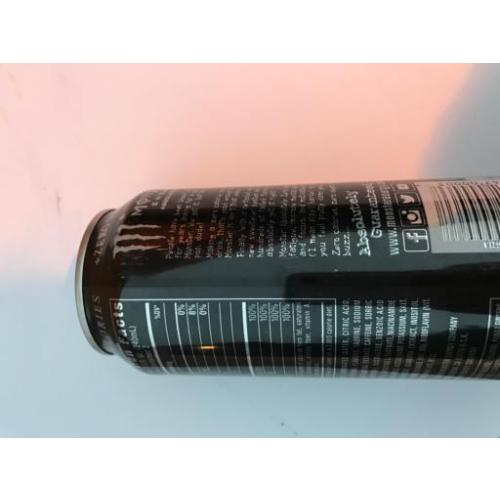metal: (77, 176, 500, 380)
